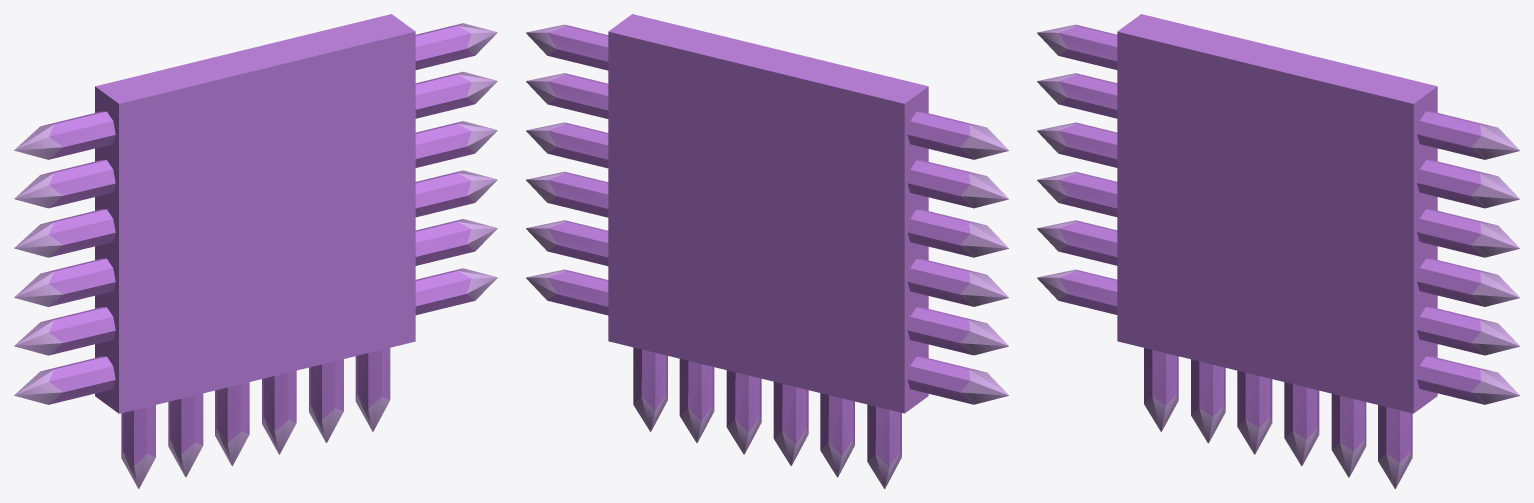
Rendered from wall_1.fbx.
3 views of the same model, side by side, from view 1: azimuth 30°, elevation 25°; view 2: azimuth 150°, elevation 25°; view 3: azimuth 330°, elevation 25° (orthographic).
Parts seen in each view (by area): view 1: polySurface3; view 2: polySurface3; view 3: polySurface3.
Part boxes in pixels (bbox=[...]): polySurface3: bbox=[14, 14, 497, 488]; polySurface3: bbox=[526, 14, 1008, 488]; polySurface3: bbox=[1037, 14, 1519, 488].
Size of the model in its own units: 30.91 by 24.57 by 2.67.
